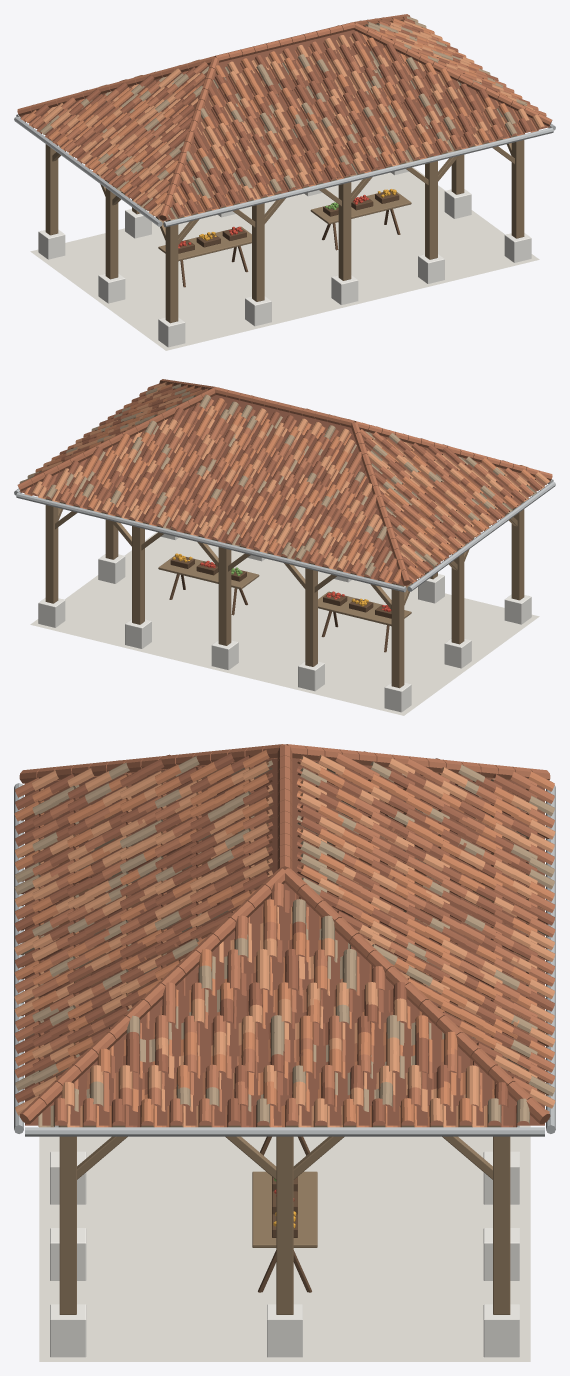
Rendered from MarketHall.fbx.
The picture shows the model from 3 angles, top to bottom: view 1: azimuth 30°, elevation 25°; view 2: azimuth 150°, elevation 25°; view 3: azimuth 270°, elevation 25°; orthographic projection. The views are drawn at different scales.
Visible parts, largest first — view 1: MarketHall; view 2: MarketHall; view 3: MarketHall.
Boxes of the visible parts, x1,y1,x2,y2 form: MarketHall: [14, 14, 555, 350]; MarketHall: [14, 379, 555, 715]; MarketHall: [14, 744, 555, 1361].
Size of the model in its own units: 11.5 by 6.01 by 7.5.
